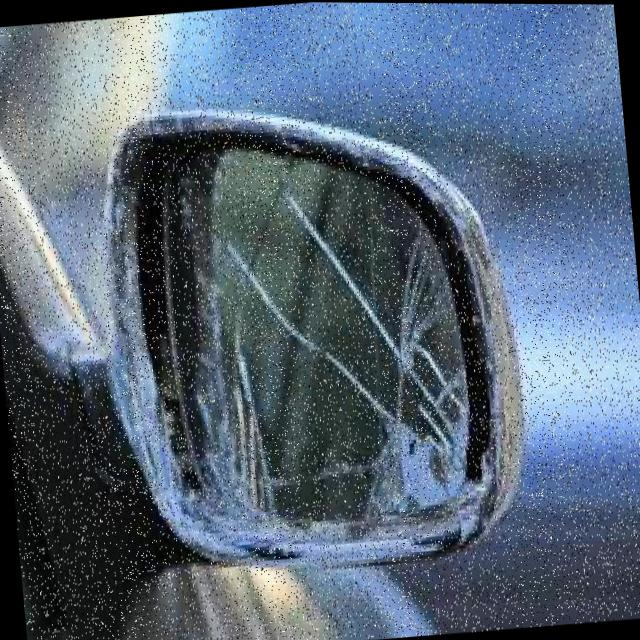Glass_Break: (26, 58, 568, 596)
